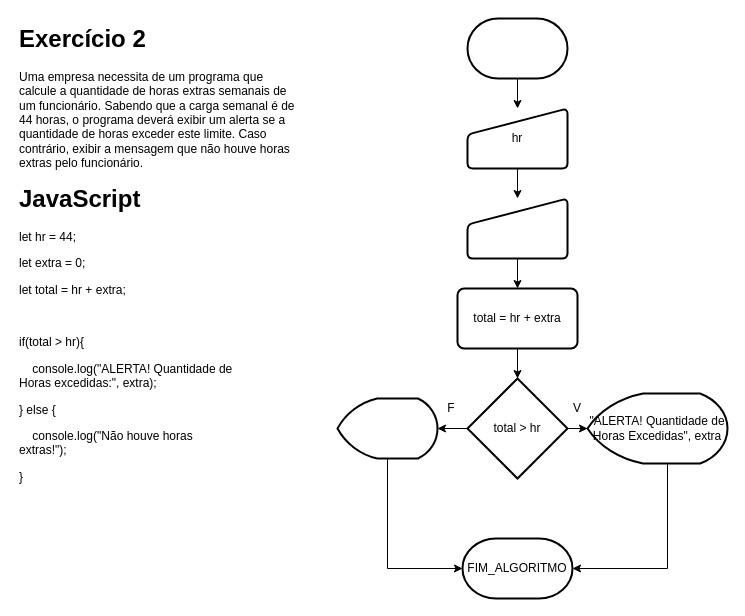
Some shapes in this 745 by 616 pixel diagram are drawn without their labels. The centre of each missing label's shape, as x and y in pixels:
"Não houve horas extras!": point 387,428
extra: point 517,228
INÍCIO: point 517,48
